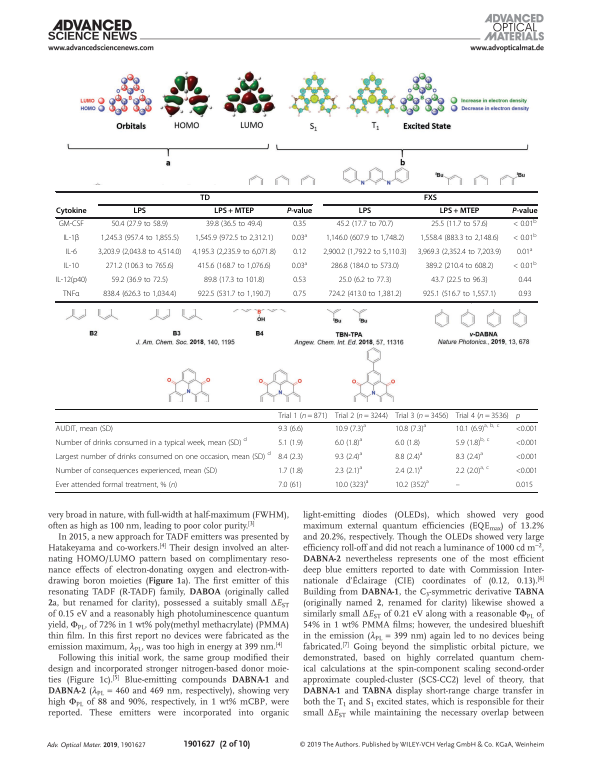borderless: (54, 190, 537, 301), (54, 407, 538, 492)
cell: (55, 450, 272, 462), (55, 436, 248, 448), (55, 466, 218, 476), (55, 480, 178, 490), (191, 248, 277, 258), (322, 248, 408, 258), (97, 248, 182, 258), (417, 248, 502, 258), (100, 234, 180, 244), (194, 234, 274, 244), (325, 234, 405, 244), (419, 234, 499, 244), (197, 262, 272, 272), (102, 290, 177, 300), (197, 290, 272, 300), (327, 290, 402, 300), (422, 290, 497, 300), (105, 262, 175, 272), (330, 262, 400, 272), (424, 262, 494, 272), (203, 276, 265, 286), (55, 424, 114, 434), (110, 220, 169, 230), (430, 220, 489, 230), (110, 276, 169, 286), (430, 276, 489, 286), (205, 220, 263, 230), (336, 220, 394, 230), (455, 422, 500, 434), (338, 276, 392, 286), (334, 411, 389, 420), (394, 411, 449, 420), (455, 411, 510, 420), (277, 411, 328, 420), (394, 478, 430, 490), (455, 436, 490, 448), (455, 464, 490, 476), (334, 478, 369, 490), (213, 207, 255, 217), (439, 207, 480, 217), (334, 422, 367, 434), (394, 422, 427, 434), (334, 436, 363, 448), (334, 450, 363, 462), (394, 450, 423, 462), (455, 450, 484, 462), (334, 464, 363, 476), (394, 464, 423, 476), (55, 276, 88, 286), (55, 207, 87, 217), (512, 219, 537, 230), (512, 233, 537, 244), (512, 261, 537, 272), (277, 424, 304, 434), (277, 438, 304, 448), (394, 438, 421, 448), (277, 452, 304, 462), (277, 466, 304, 476), (286, 207, 313, 217), (511, 207, 538, 217), (58, 220, 85, 230), (277, 480, 302, 490), (515, 424, 538, 434), (515, 438, 538, 448), (515, 452, 538, 462), (515, 466, 538, 476), (515, 480, 534, 490), (291, 233, 308, 244), (516, 247, 533, 258), (291, 261, 308, 272), (62, 234, 80, 244), (62, 290, 80, 300), (63, 262, 80, 272), (132, 207, 147, 217), (292, 220, 307, 230), (292, 248, 307, 258), (292, 276, 307, 286), (517, 276, 532, 286), (292, 290, 307, 300), (517, 290, 532, 300), (358, 207, 372, 217), (64, 248, 78, 258), (423, 194, 438, 203), (199, 194, 211, 203), (515, 413, 521, 420), (455, 484, 461, 488)
